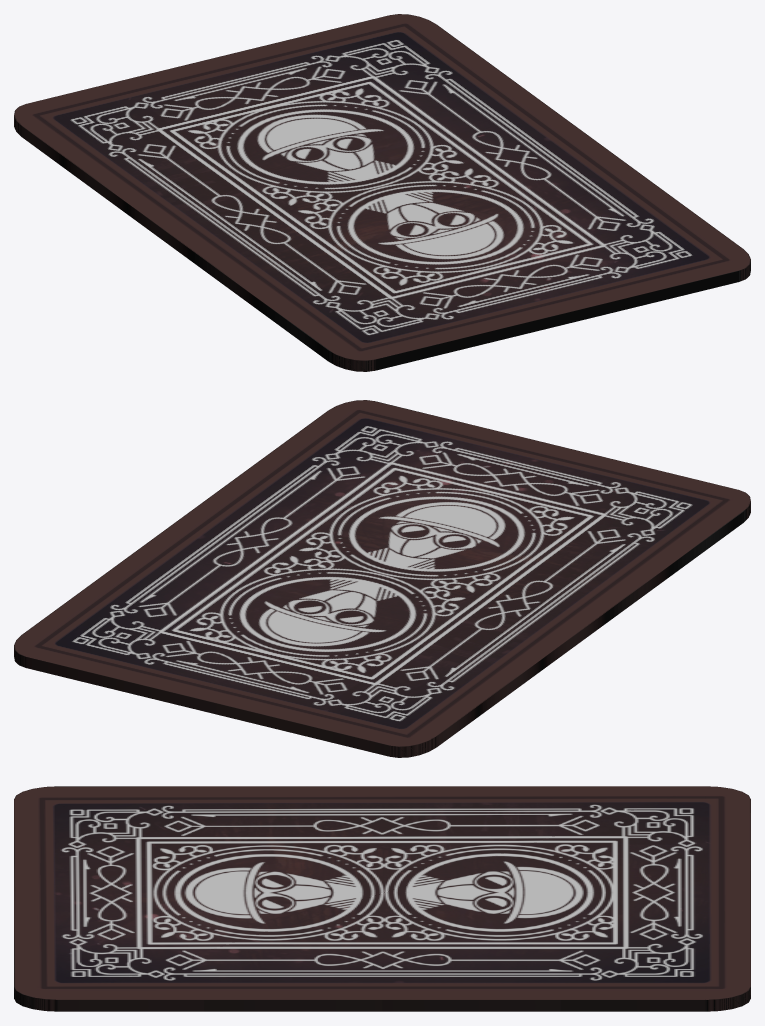
File: UMMModel5.glb
3 renders of one model, top to bottom at view 1: azimuth 30°, elevation 25°; view 2: azimuth 150°, elevation 25°; view 3: azimuth 270°, elevation 25°, orthographic. The views are drawn at different scales.
Visible parts, largest first — view 1: Plane.002; view 2: Plane.002; view 3: Plane.002.
Boxes of the visible parts, x1=… form: Plane.002: x1=14, y1=14, x2=750, y2=371; Plane.002: x1=14, y1=400, x2=750, y2=757; Plane.002: x1=14, y1=786, x2=750, y2=1011.
Size of the model in its own units: 2.28 by 0.0592 by 3.32.
2 materials, 2 textured.
